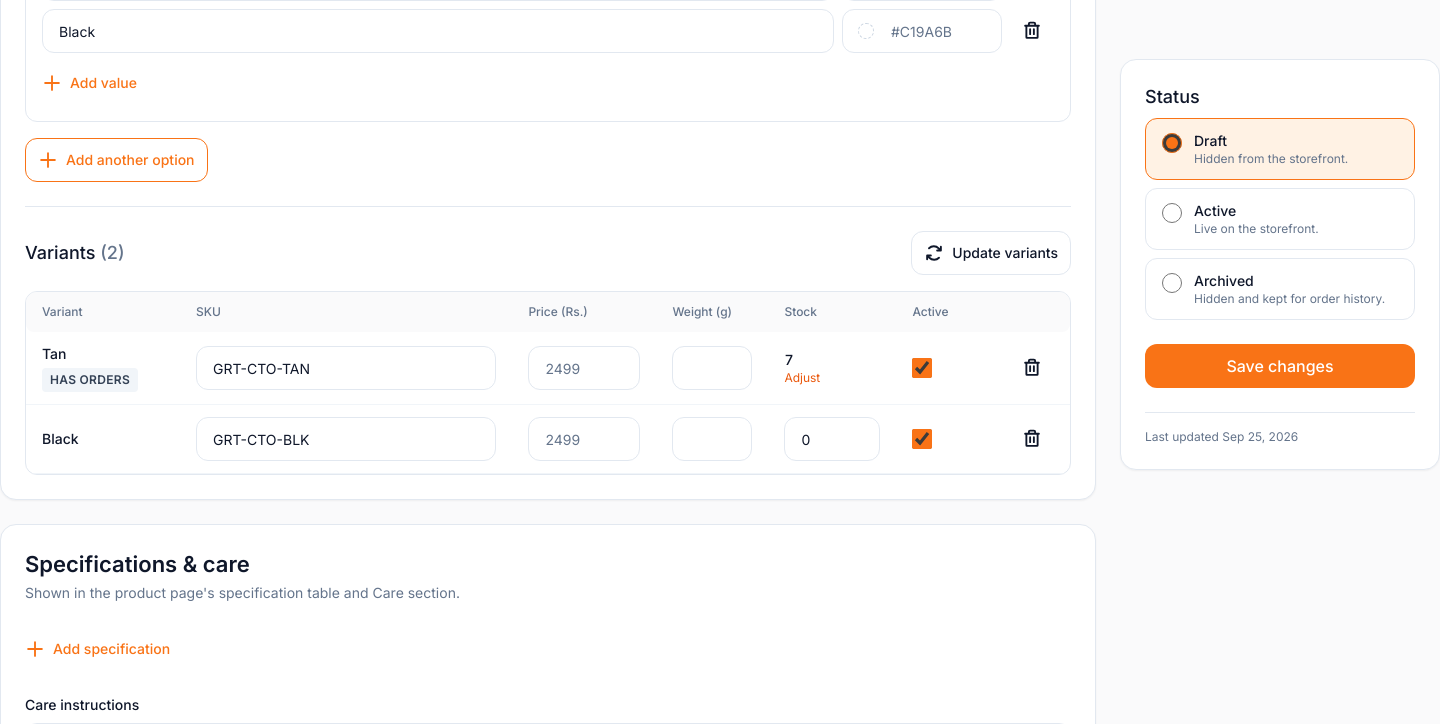
ProductForm › lists a removed saved variant, noting it has orders
(page scrolled)
Step 1. Click the button named "Remove variant Tan" → (1032, 368), box x1=1010 y1=346 x2=1054 y2=390
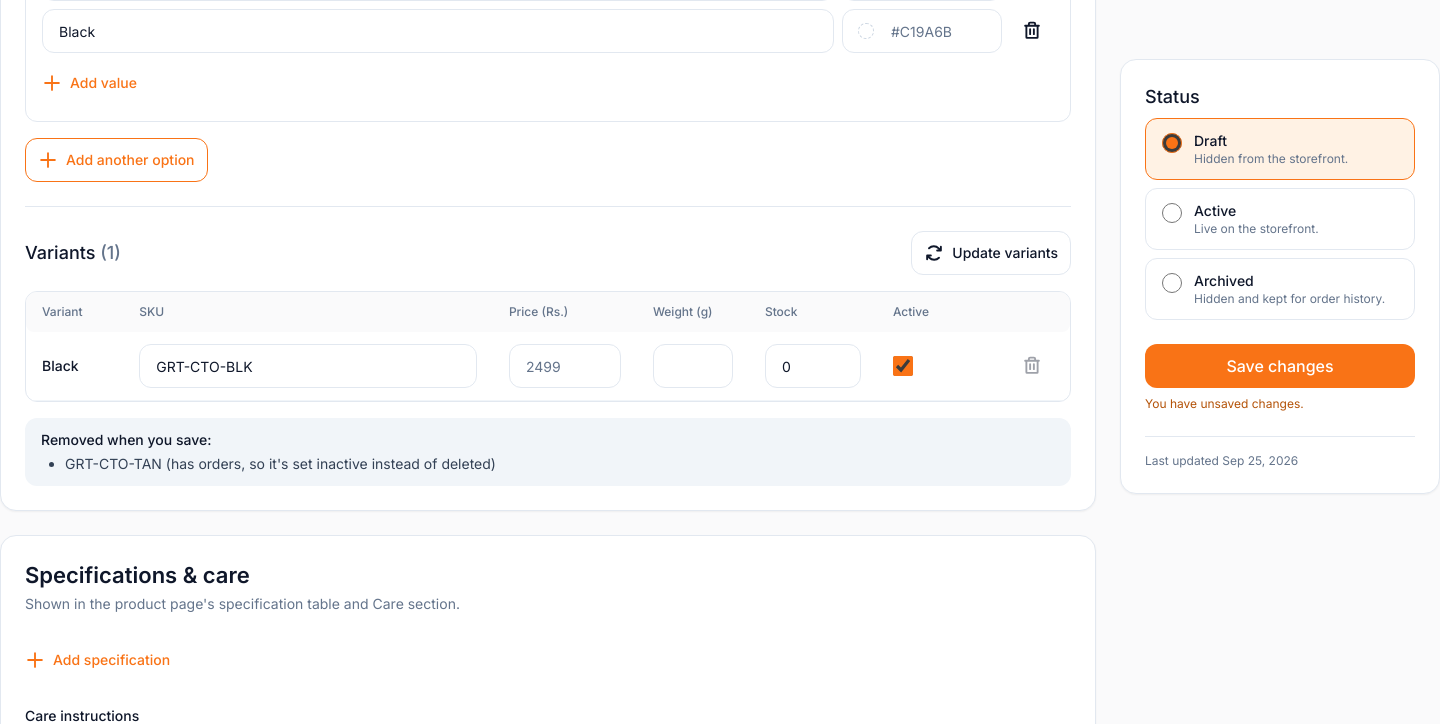
expect the text "Removed when you save:" is shown: met, box x1=41 y1=431 x2=212 y2=448
expect the list item "GRT-CTO-TAN (has orders" is shown: met, box x1=65 y1=455 x2=496 y2=472
